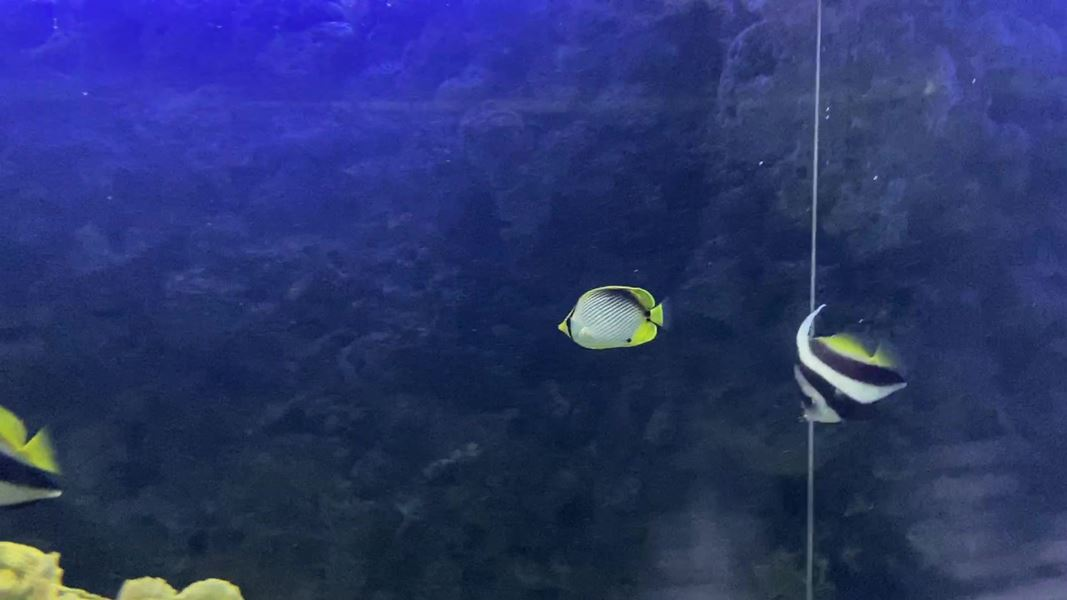Black-backed butterflyfish: (551, 279, 683, 359)
